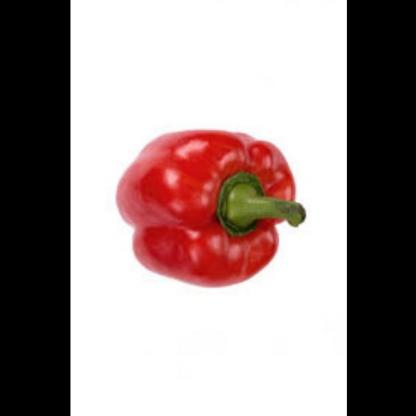bell pepper: (116, 124, 311, 292)
